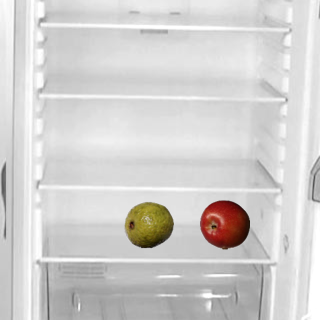Apple Braeburn: (199, 199, 249, 249)
Guava: (123, 199, 173, 249)
